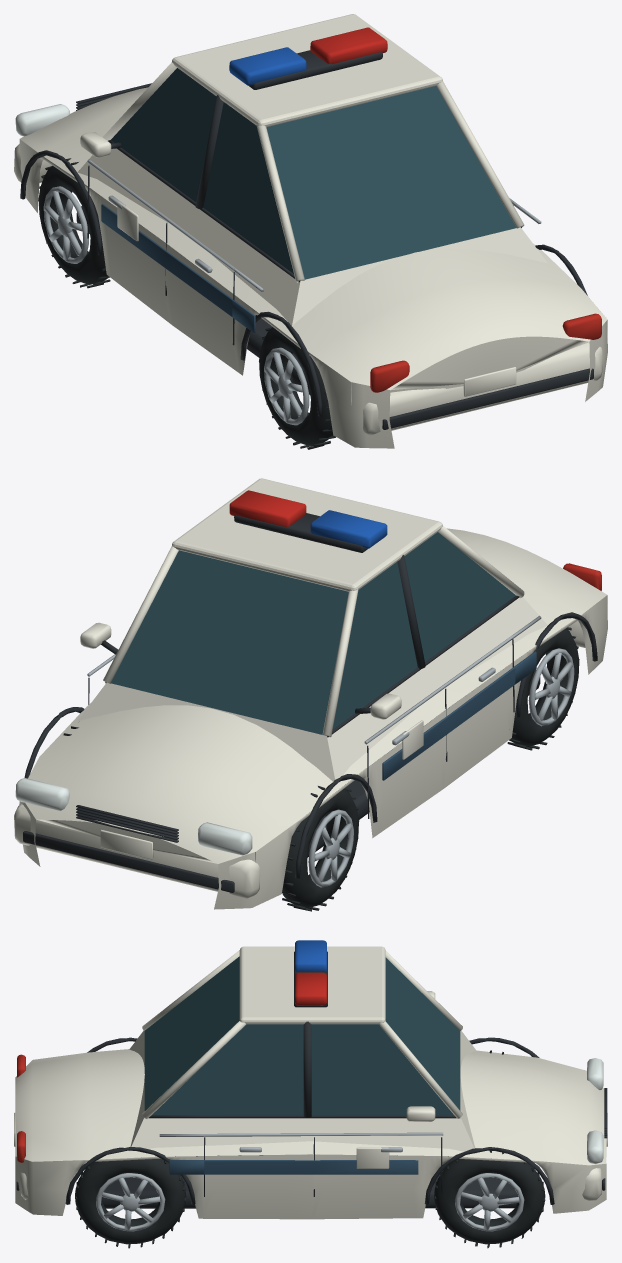
3 views of the same model, one above another, from view 1: azimuth 30°, elevation 25°; view 2: azimuth 150°, elevation 25°; view 3: azimuth 270°, elevation 25° (orthographic). The views are drawn at different scales.
Parts seen in each view (by area): view 1: patrol_car_body, patrol_car_front_left_door, patrol_car_rear_left_door, patrol_car_rear_left_wheel, patrol_car_front_left_wheel; view 2: patrol_car_body, patrol_car_front_left_door, patrol_car_rear_left_door, patrol_car_front_left_wheel, patrol_car_rear_left_wheel, patrol_car_front_right_door; view 3: patrol_car_body, patrol_car_front_right_door, patrol_car_rear_right_door, patrol_car_front_right_wheel, patrol_car_rear_right_wheel.
Boxes of the visible parts, left/top/right/bottom form: patrol_car_body: left=14, top=14, right=607, bottom=448; patrol_car_front_left_door: left=80, top=68, right=216, bottom=323; patrol_car_rear_left_door: left=165, top=102, right=274, bottom=372; patrol_car_rear_left_wheel: left=259, top=327, right=335, bottom=449; patrol_car_front_left_wheel: left=38, top=158, right=115, bottom=288; patrol_car_body: left=14, top=478, right=607, bottom=909; patrol_car_front_left_door: left=335, top=563, right=447, bottom=838; patrol_car_rear_left_door: left=395, top=532, right=515, bottom=789; patrol_car_front_left_wheel: left=282, top=786, right=359, bottom=911; patrol_car_rear_left_wheel: left=507, top=627, right=579, bottom=750; patrol_car_front_right_door: left=80, top=622, right=118, bottom=704; patrol_car_body: left=14, top=940, right=607, bottom=1218; patrol_car_front_right_door: left=314, top=1024, right=442, bottom=1219; patrol_car_rear_right_door: left=204, top=1024, right=314, bottom=1219; patrol_car_front_right_wheel: left=434, top=1150, right=545, bottom=1248; patrol_car_rear_right_wheel: left=75, top=1156, right=186, bottom=1248.
Bounding box in the file's own units: 1.7 × 1.5 × 3.5.
